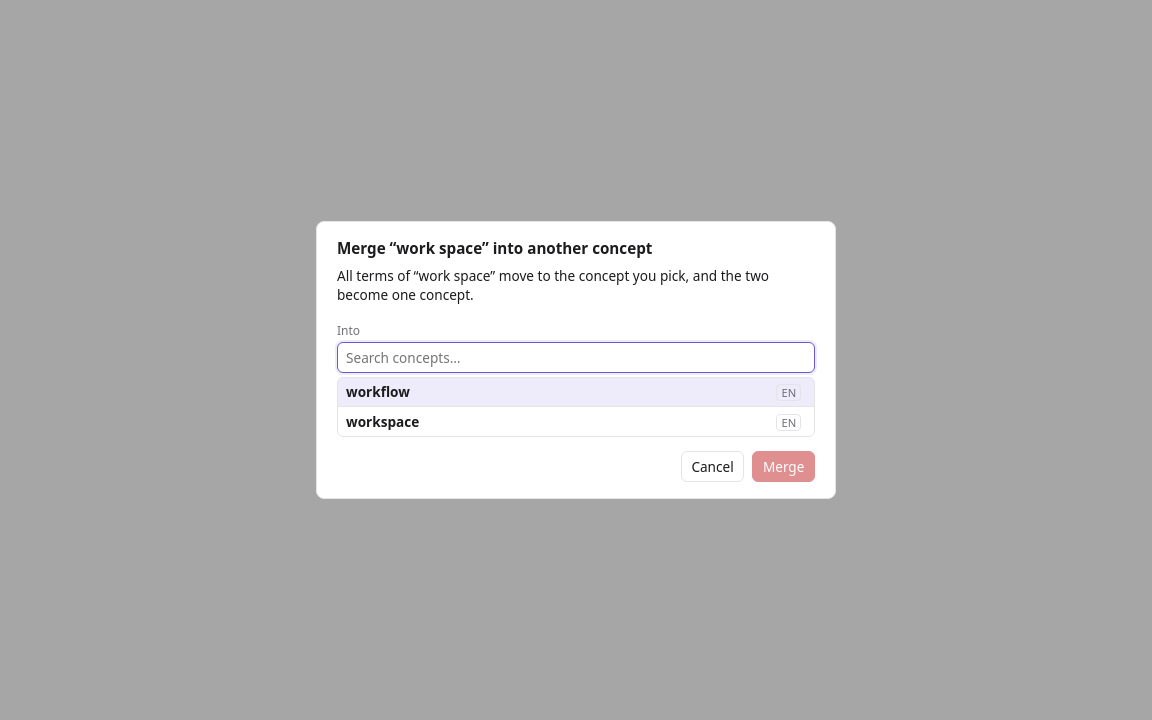
Scenario: MergeDialog › keeps confirm unavailable before a target is picked and while the preview loads
The image size is (1152, 720).
Check: the heading "Merge “work space” into another concept" is shown, box [337,238,652,258]
Check: the button "Merge" is disabled, box [752,451,815,482]
Click the option "workspace EN" at [383, 421], box [338,407,814,436]
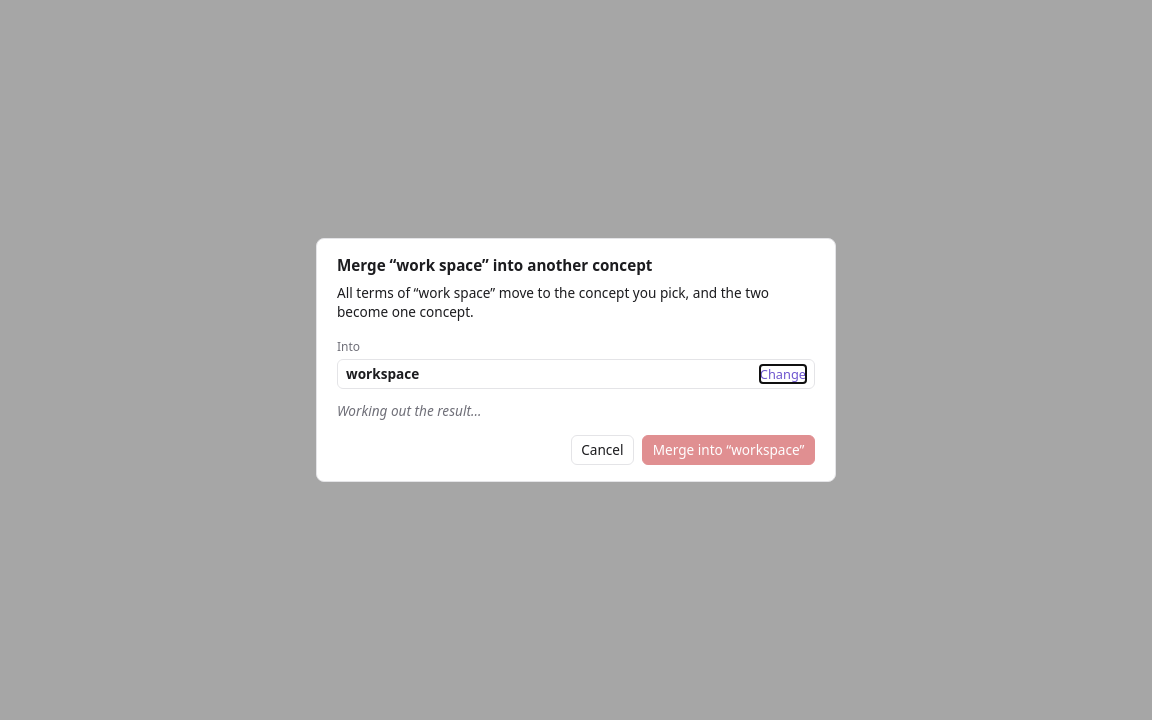
Check: the button "Merge into “workspace”" is disabled, box [642,435,815,465]
Check: the text "Working out the result…" is shown, box [337,401,481,420]
Check: the button "Merge into “workspace”" is shown, box [642,435,815,465]
